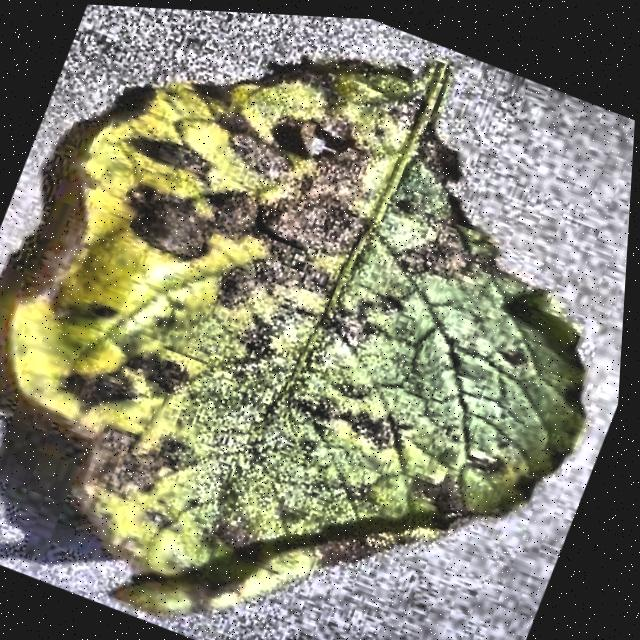Potato_leaf_early_blight: (13, 64, 584, 615)
